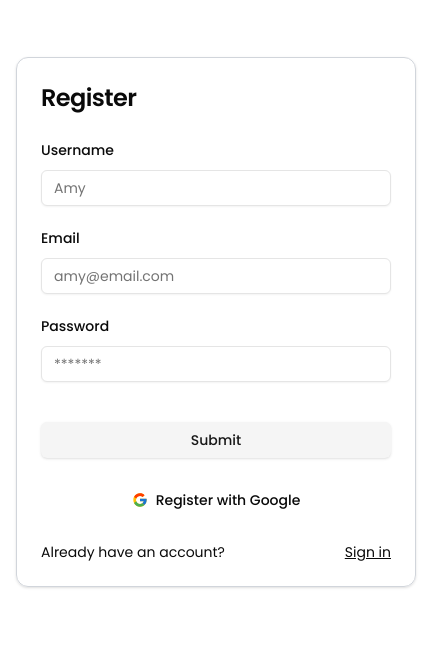
Scenario: Register Component › handles empty form submission
// Submit empty form
Step 1. Click the button "Submit" → (216, 440), box left=41, top=422, right=391, bottom=458
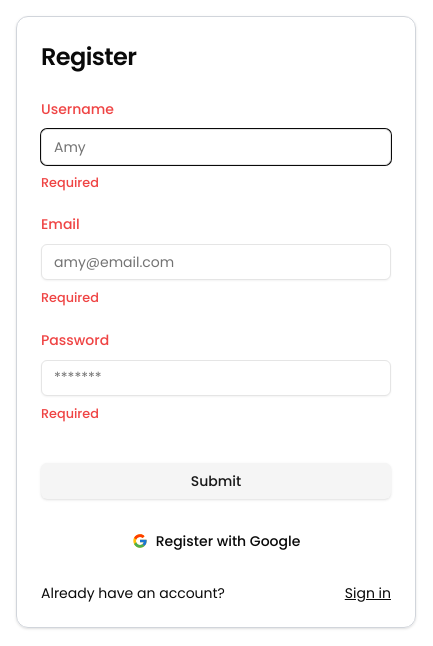
Check: the text "Required" below "Username" is shown, box left=41, top=174, right=99, bottom=191
